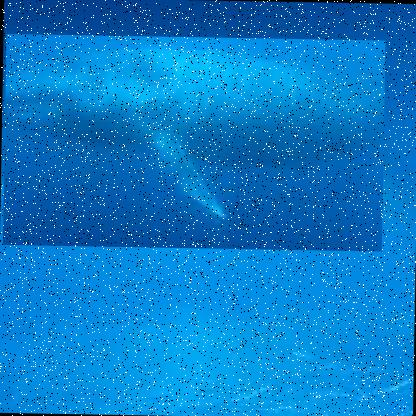blue_whale: (1, 32, 385, 251)
